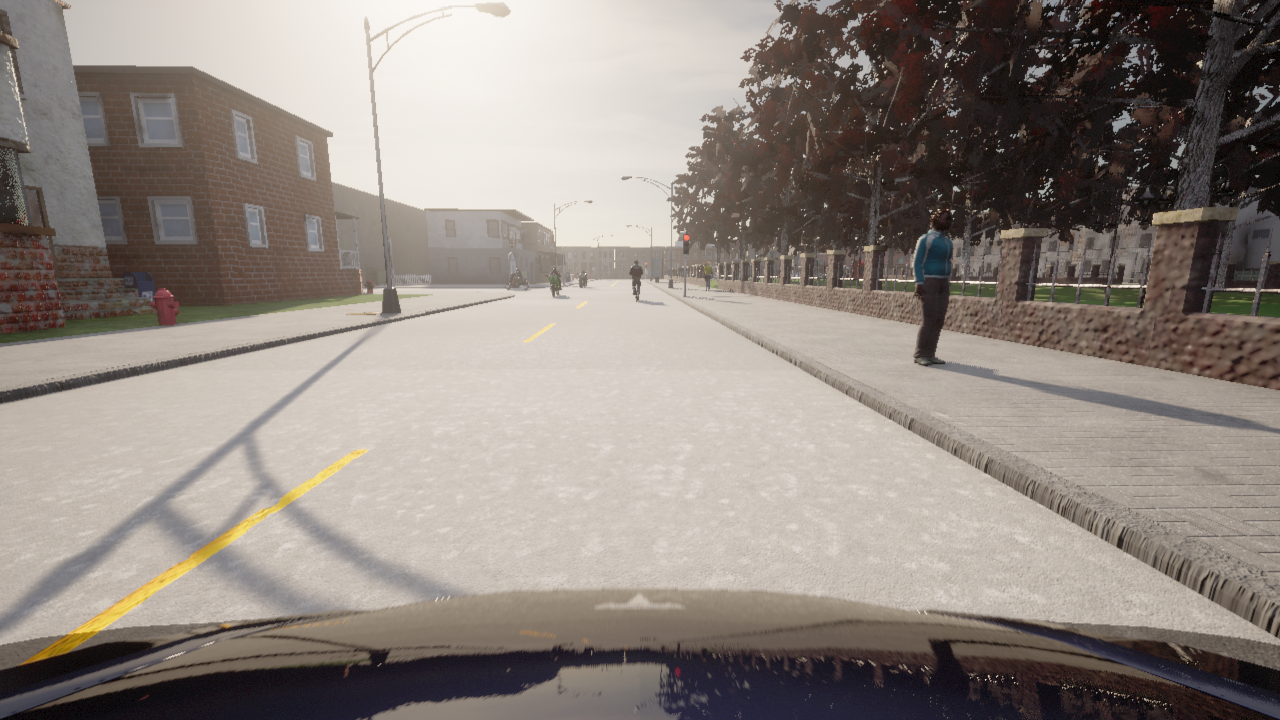cyclist: (0, 588, 1279, 719), (545, 274, 561, 296), (505, 275, 529, 289), (578, 273, 587, 287), (633, 283, 637, 300)
pedestrian: (913, 209, 953, 365), (703, 262, 712, 290)
